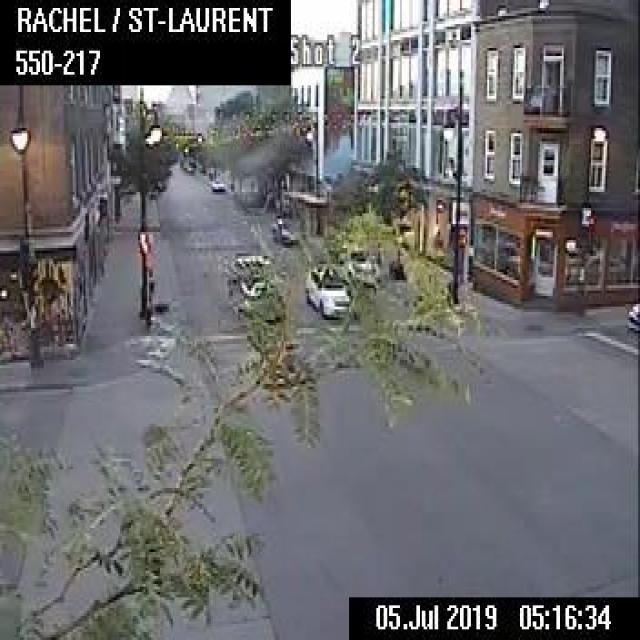pedestrian: (25, 291, 42, 368)
vehicle: (227, 253, 284, 323), (302, 259, 347, 317), (336, 240, 378, 285), (272, 213, 300, 244), (626, 296, 638, 331), (212, 178, 226, 192)
